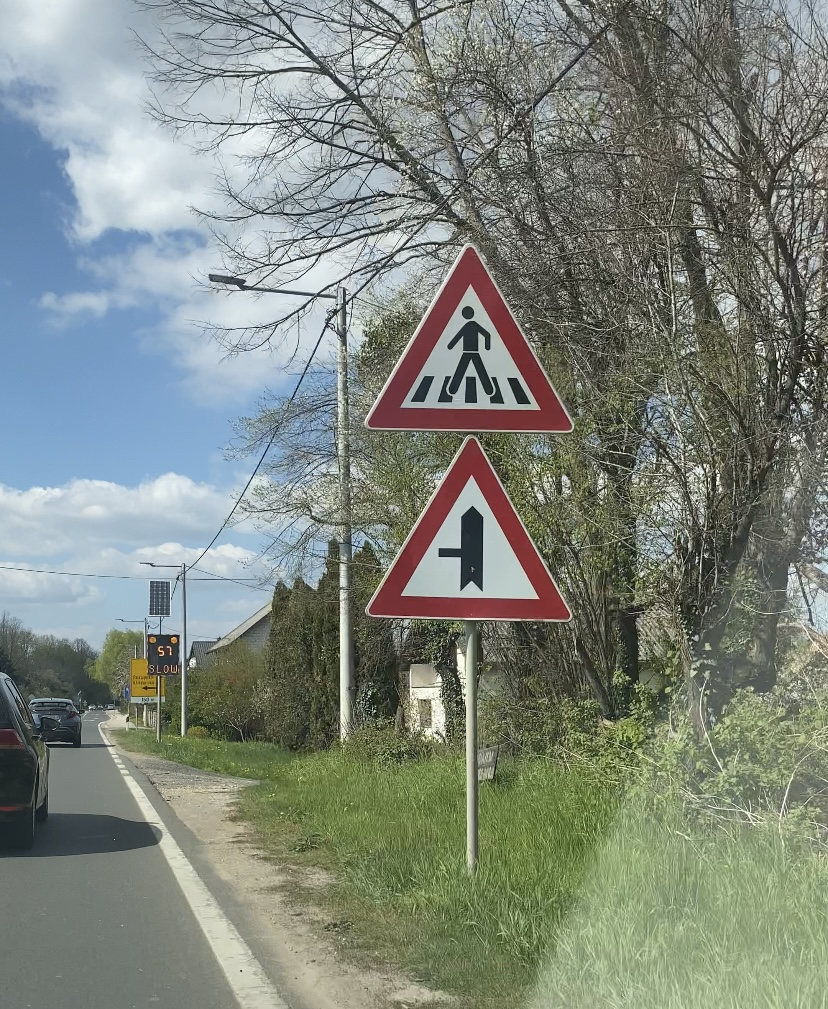Približavanje pješačkom prijelazu: (364, 243, 575, 433)
